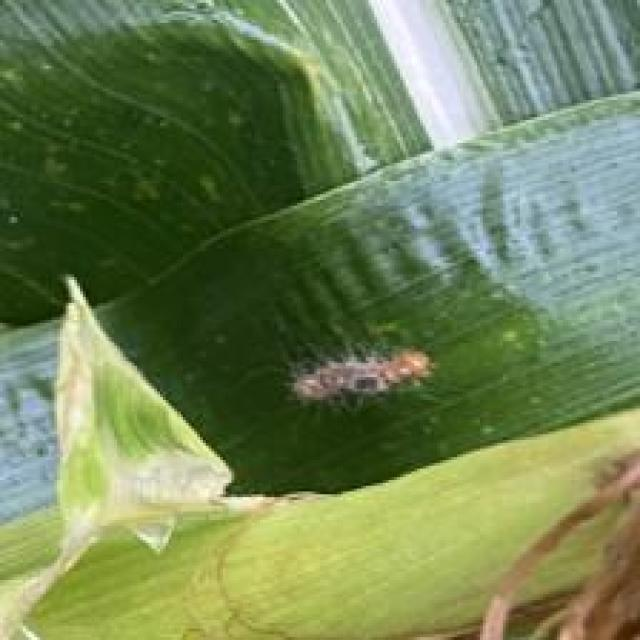Plaga: (271, 335, 460, 438)
